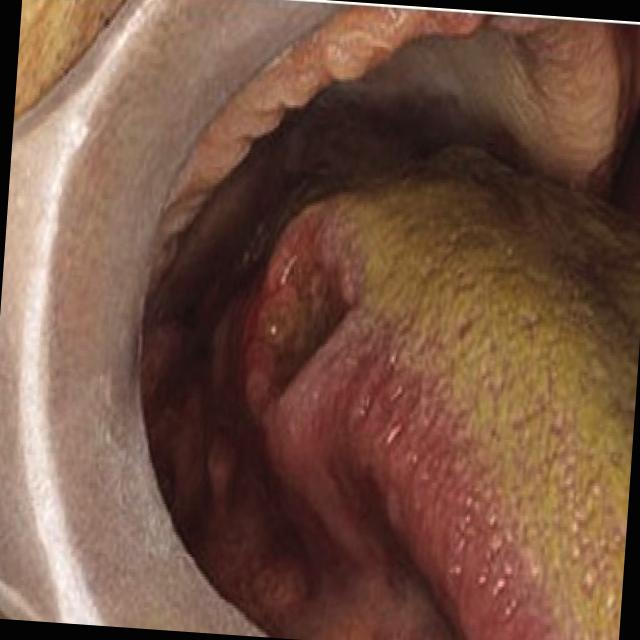Cancer: (231, 205, 396, 440)
